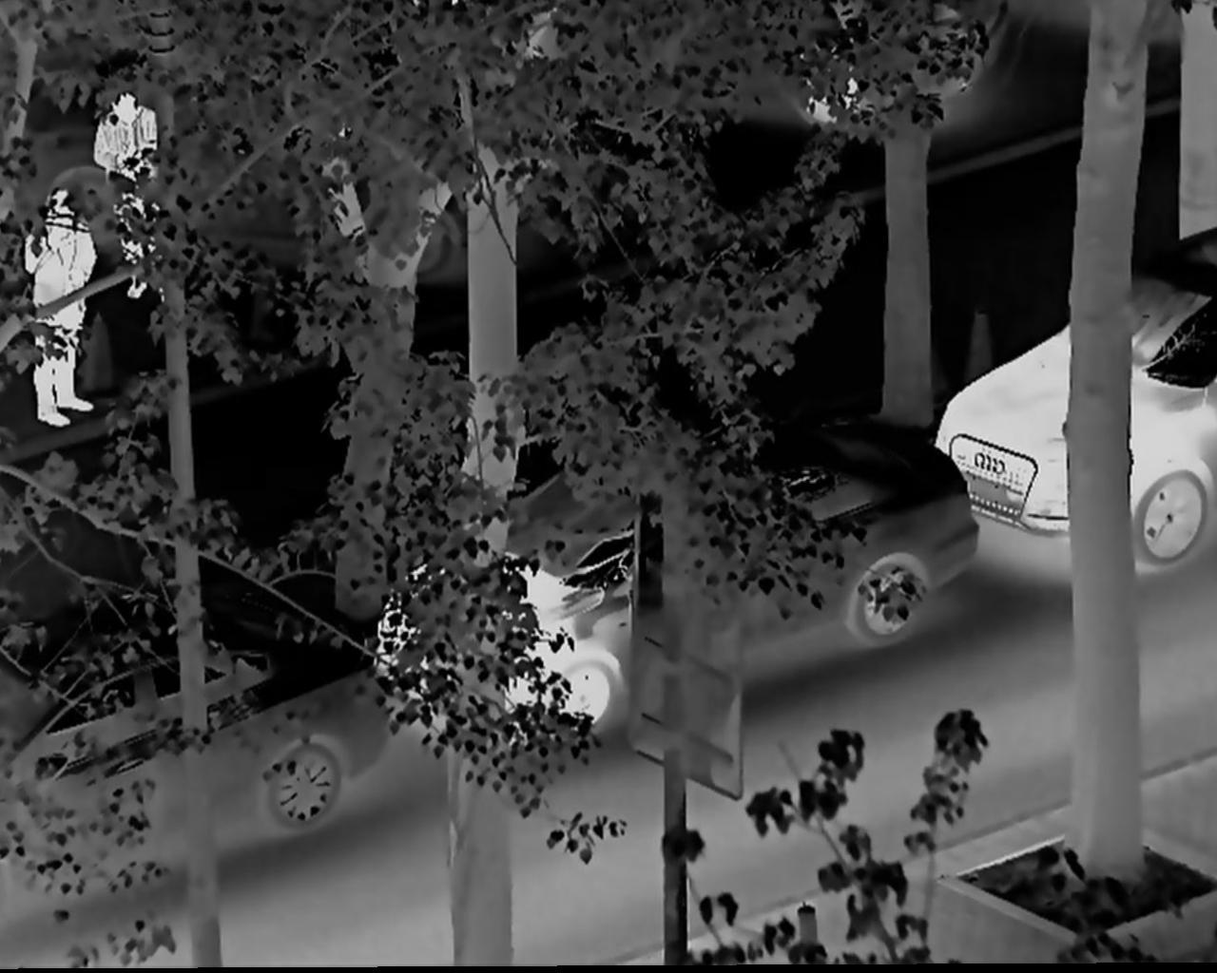person: (88, 90, 180, 308), (24, 192, 97, 429)
